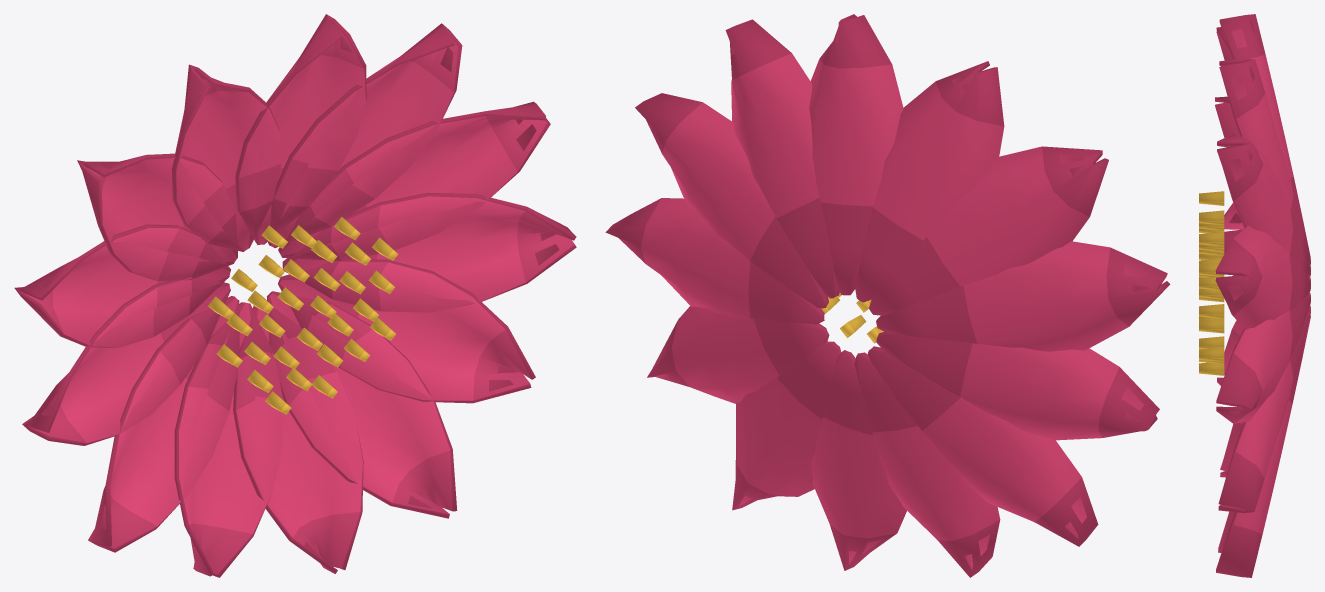
Rendered from garden-zinnia-bloom-head-1.glb.
The picture shows the model from 3 angles, left to right: view 1: azimuth 30°, elevation 25°; view 2: azimuth 150°, elevation 25°; view 3: azimuth 270°, elevation 25°; orthographic projection. The views are drawn at different scales.
Parts seen in each view (by area): view 1: zinnia-bloom-head-1; view 2: zinnia-bloom-head-1; view 3: zinnia-bloom-head-1.
Part boxes in pixels (bbox=[...]): zinnia-bloom-head-1: bbox=[14, 14, 576, 577]; zinnia-bloom-head-1: bbox=[605, 14, 1170, 577]; zinnia-bloom-head-1: bbox=[1199, 14, 1310, 577].
Size of the model in its own units: 0.1847 by 0.1761 by 0.0357.
